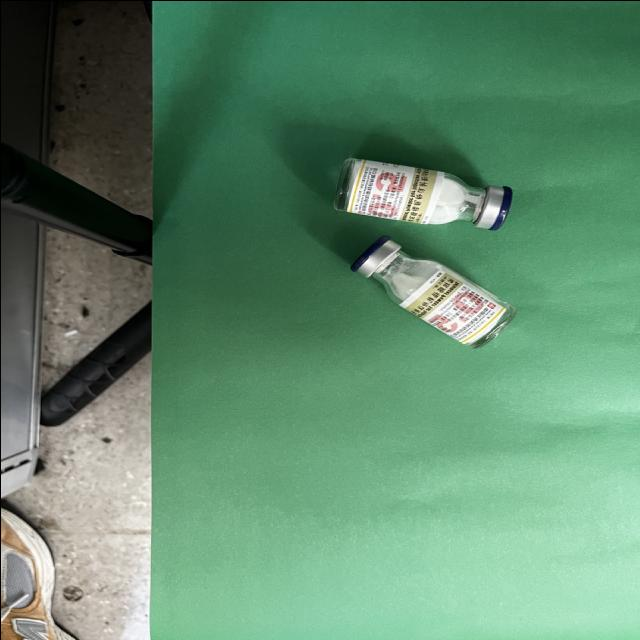Vials: (351, 236, 514, 347), (333, 158, 511, 229)
